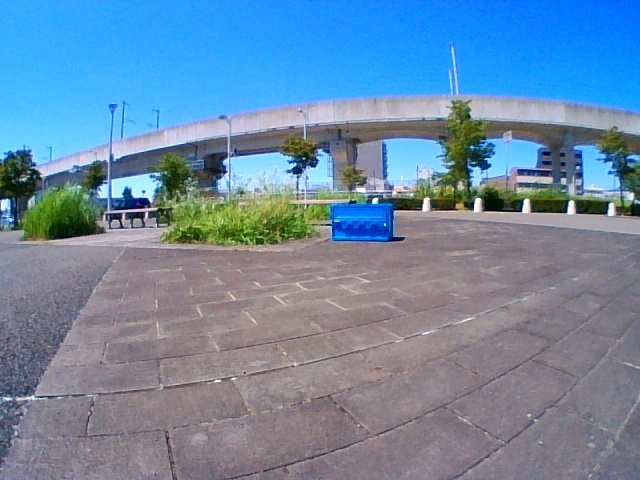blue_box: (332, 205, 391, 239)
